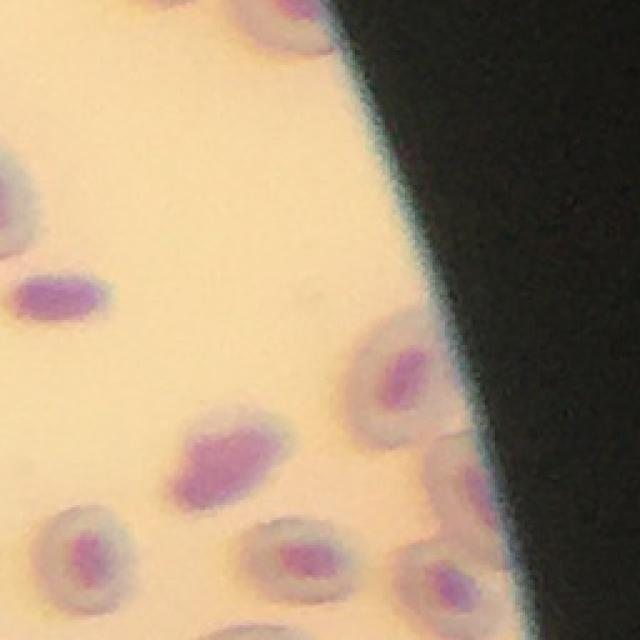RBC: (340, 303, 463, 451), (227, 518, 376, 606), (390, 539, 512, 640), (32, 503, 138, 617), (423, 434, 508, 570), (223, 0, 339, 60)
WBC: (169, 417, 295, 515), (6, 272, 112, 324)
